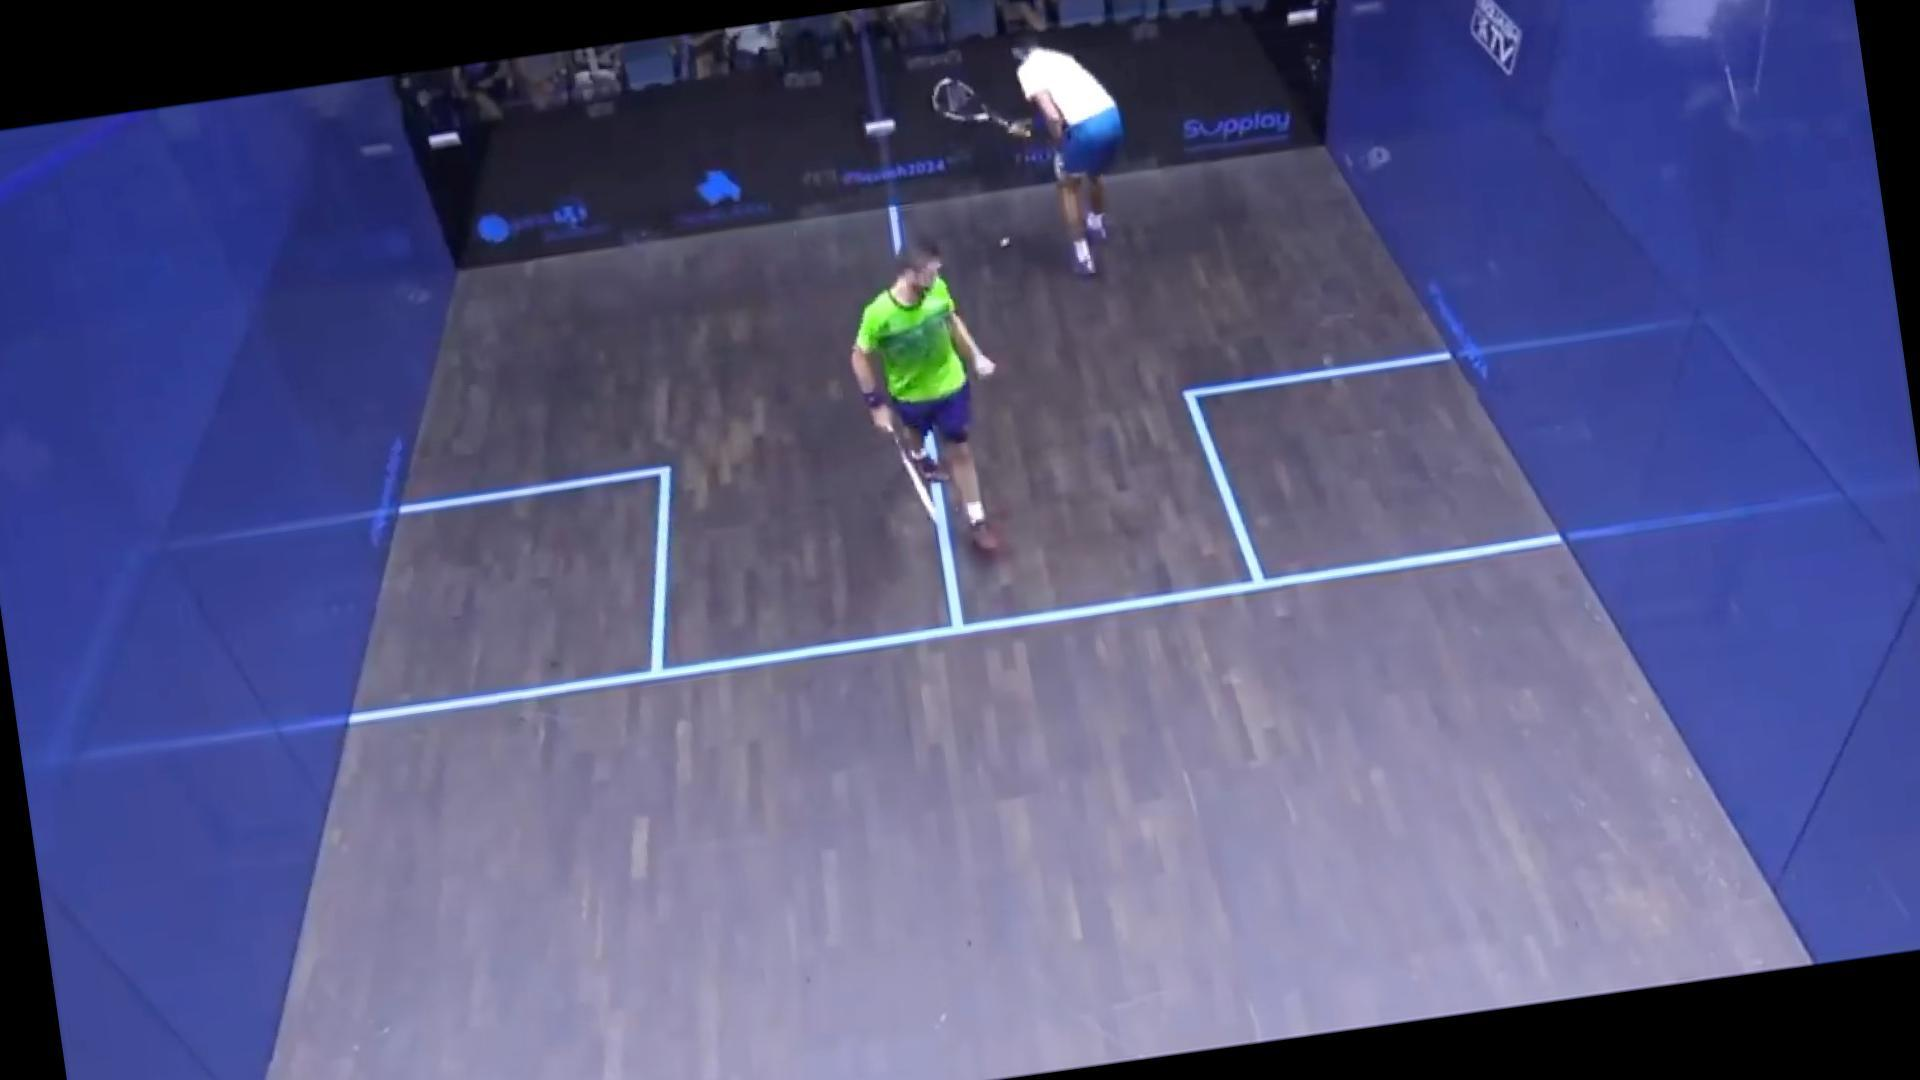Squash-Ball: (986, 218, 1027, 265)
